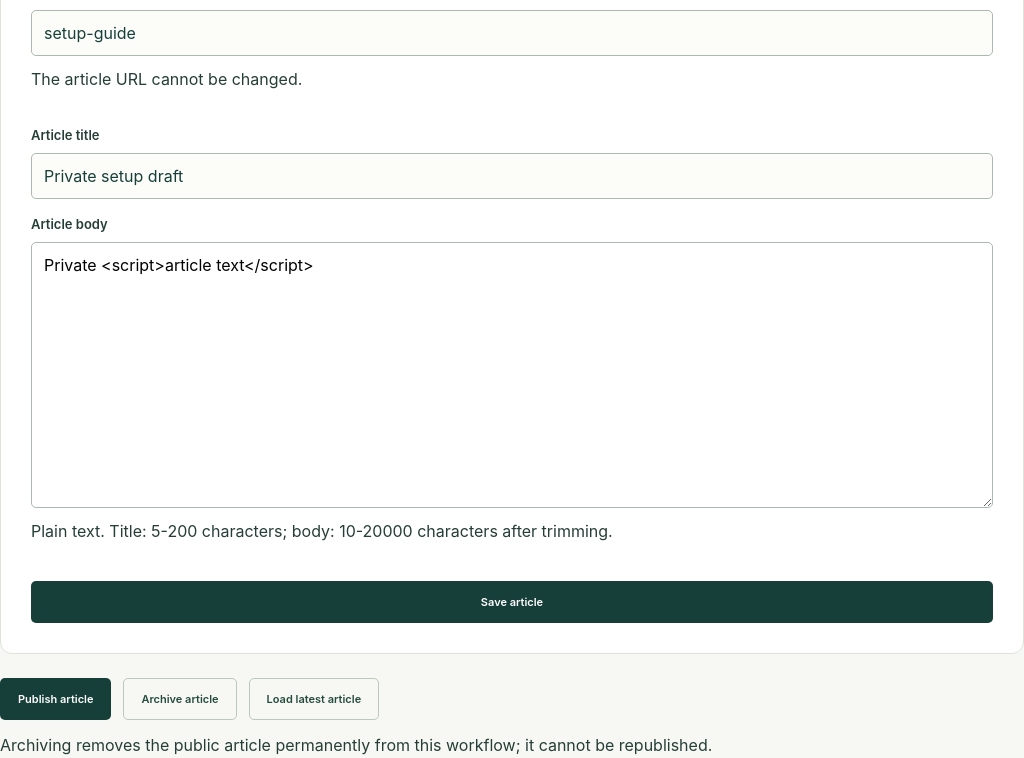
Test: uses an archived server copy without allowing an obsolete draft to be submitted
This screenshot has width=1024, height=758.
(page scrolled)
Replace the text in the text box labelled "Article body" with "My unsaved private text". click: (512,374)
box: top-left (31, 242), bottom-right (993, 508)
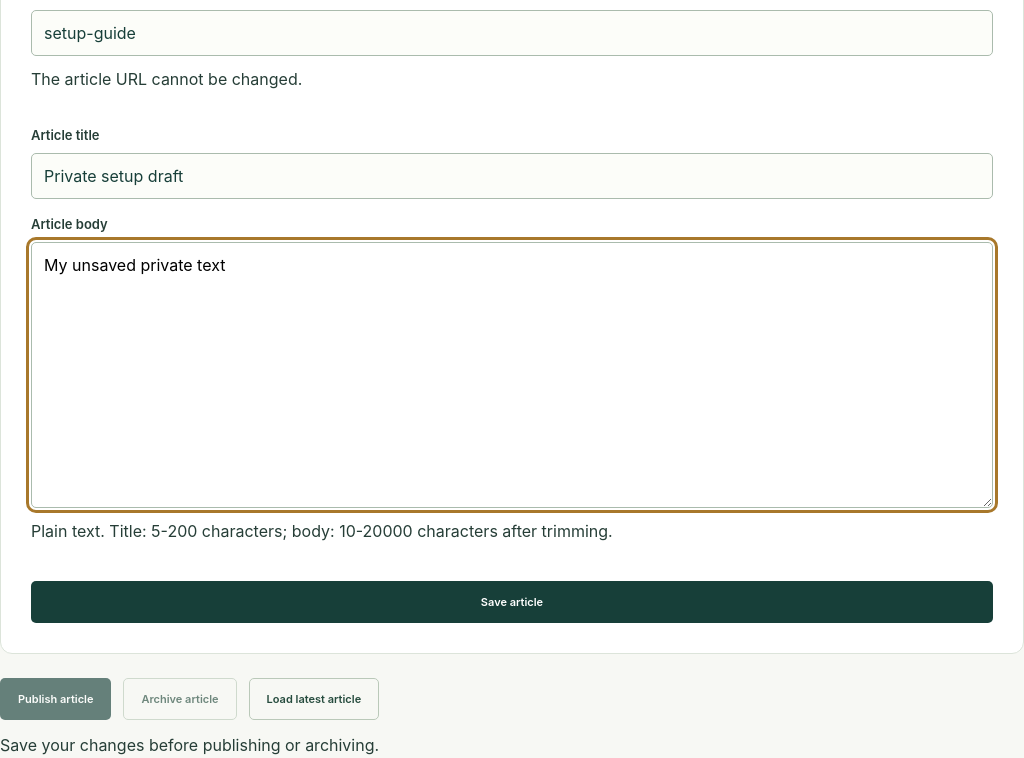
Click the button "Load latest article". click: (314,699)
box: top-left (249, 678), bottom-right (379, 720)
(page scrolled)
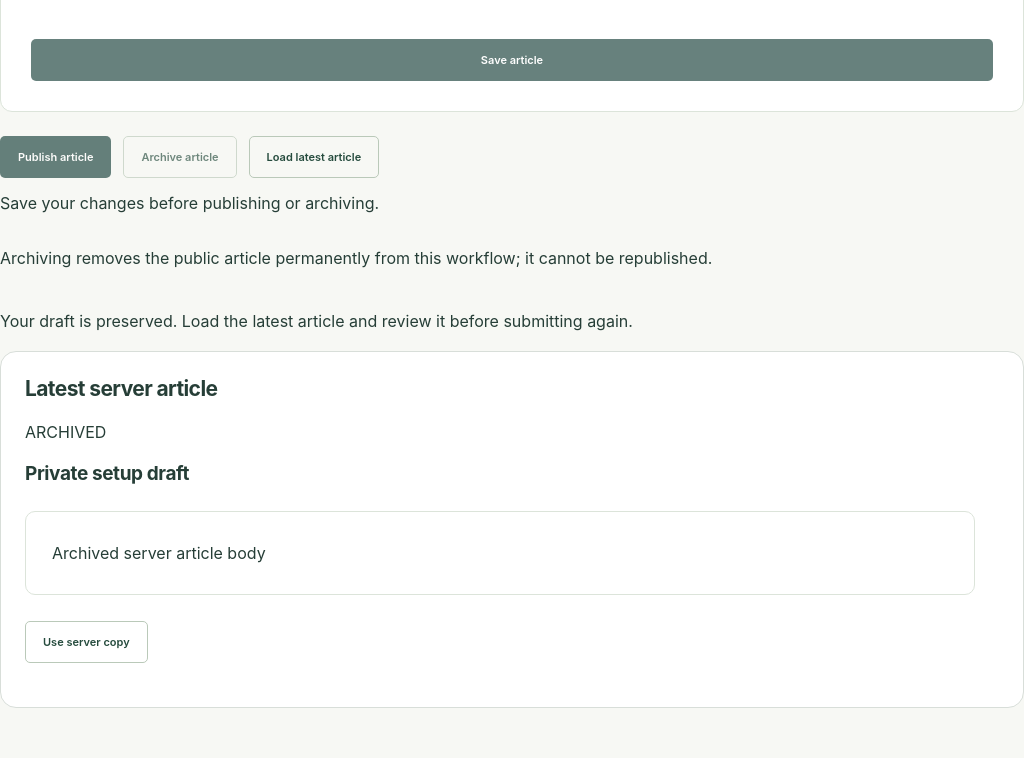
Result: the text "Archived server article body" is shown at top-left (25, 511), bottom-right (975, 595)
Result: the button "Save article" is disabled at top-left (31, 39), bottom-right (993, 81)
Click the button "Use server copy". click: (86,642)
box: top-left (25, 621), bottom-right (148, 663)
(page scrolled)
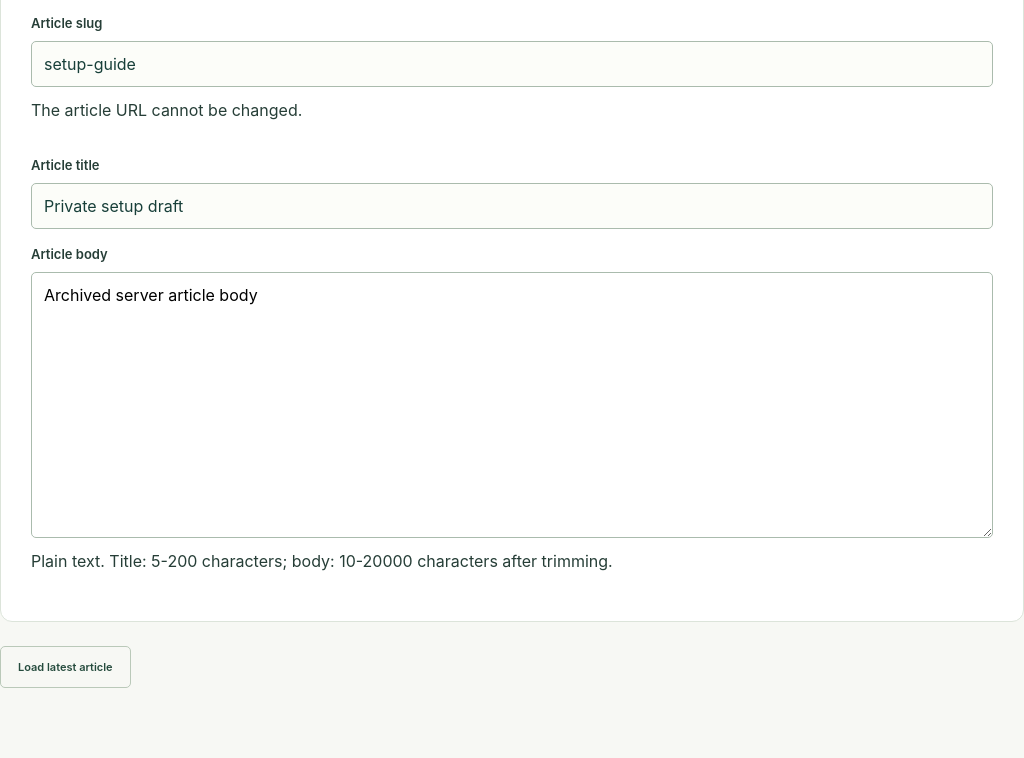
Result: the text box labelled "Article body" holds "Archived server article body" at top-left (31, 272), bottom-right (993, 538)
Result: the button "Save article" is gone
